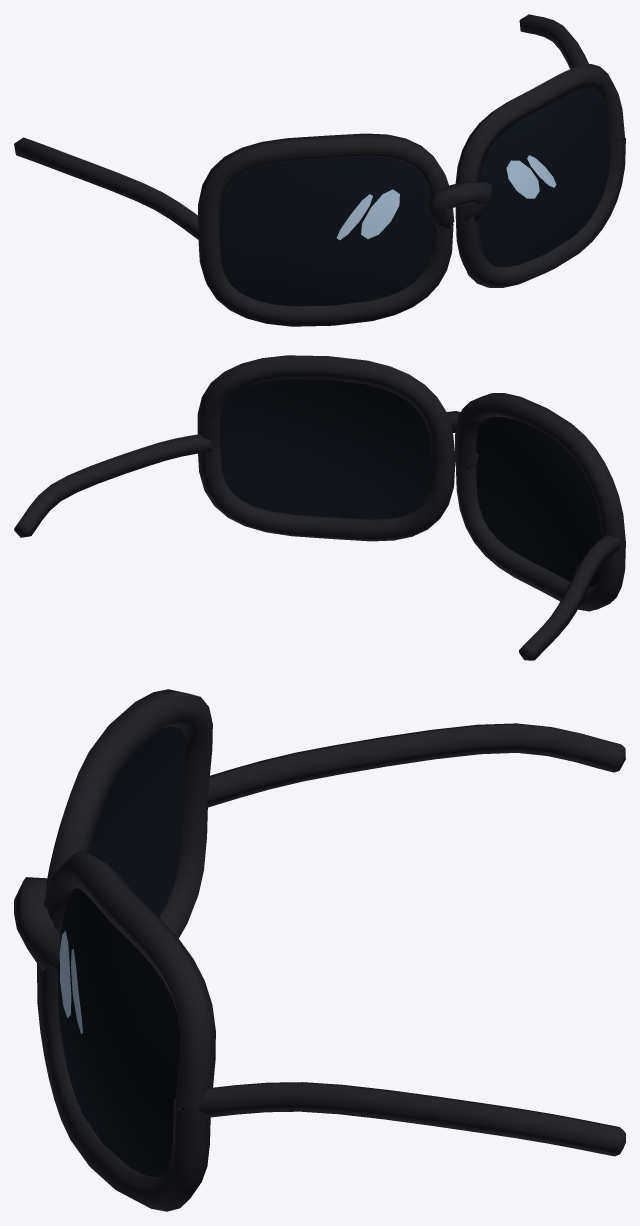
Rendered from acc_sunglasses.glb.
3 renders of one model, top to bottom at view 1: azimuth 30°, elevation 25°; view 2: azimuth 150°, elevation 25°; view 3: azimuth 270°, elevation 25°, orthographic. The views are drawn at different scales.
Visible parts, largest first — view 1: AccSunglasses; view 2: AccSunglasses; view 3: AccSunglasses.
Boxes of the visible parts, box(x1,y1,x2,y2) form: AccSunglasses: box(14, 14, 625, 326); AccSunglasses: box(14, 355, 625, 660); AccSunglasses: box(14, 689, 625, 1211).
Bounding box in the file's own units: 0.5064 × 0.1711 × 0.3275.
